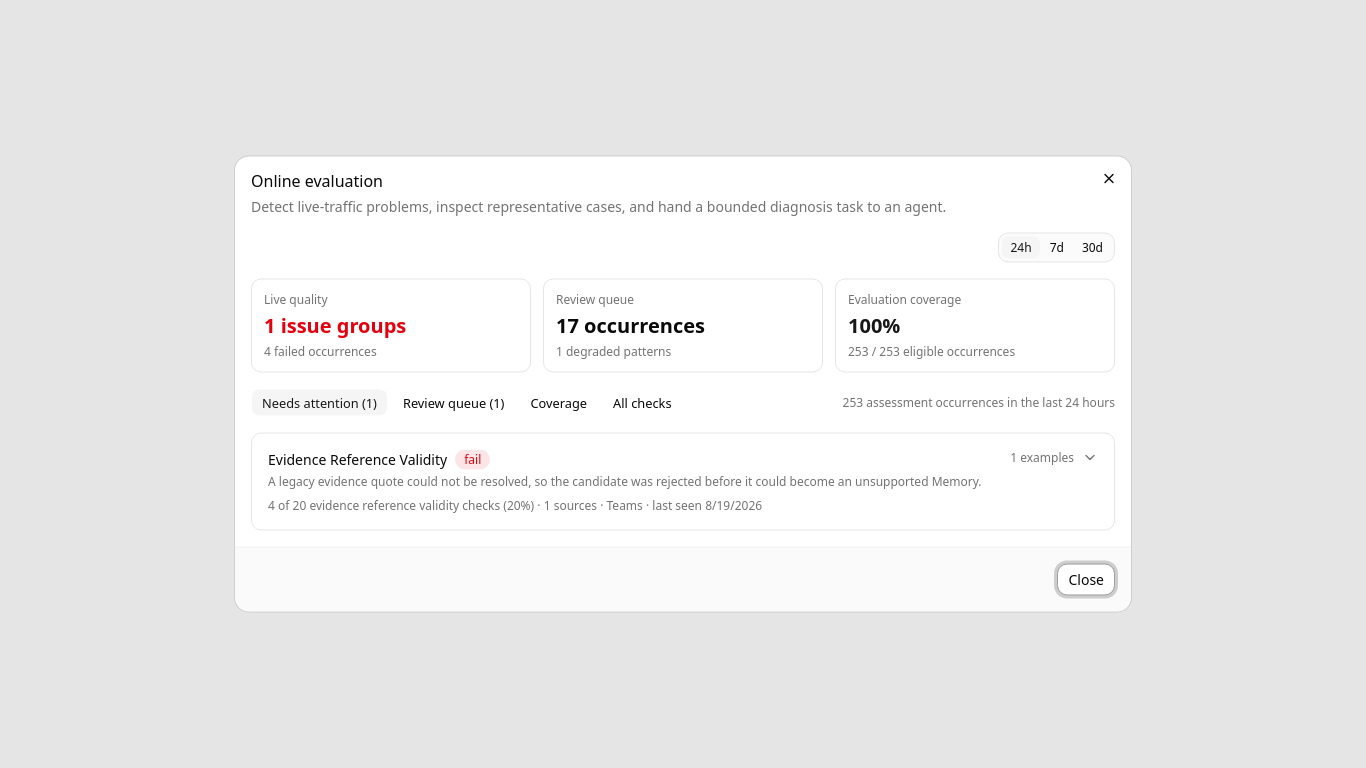
Test case: SourceOnlineEvaluationDialog › defaults to actionable groups and hands one bounded case to an agent
Check: the text "1 issue groups" is shown, box [264,312,406,338]
Click the button "Evidence Reference Validity".
click(683, 482)  # box [252,434,1114,530]
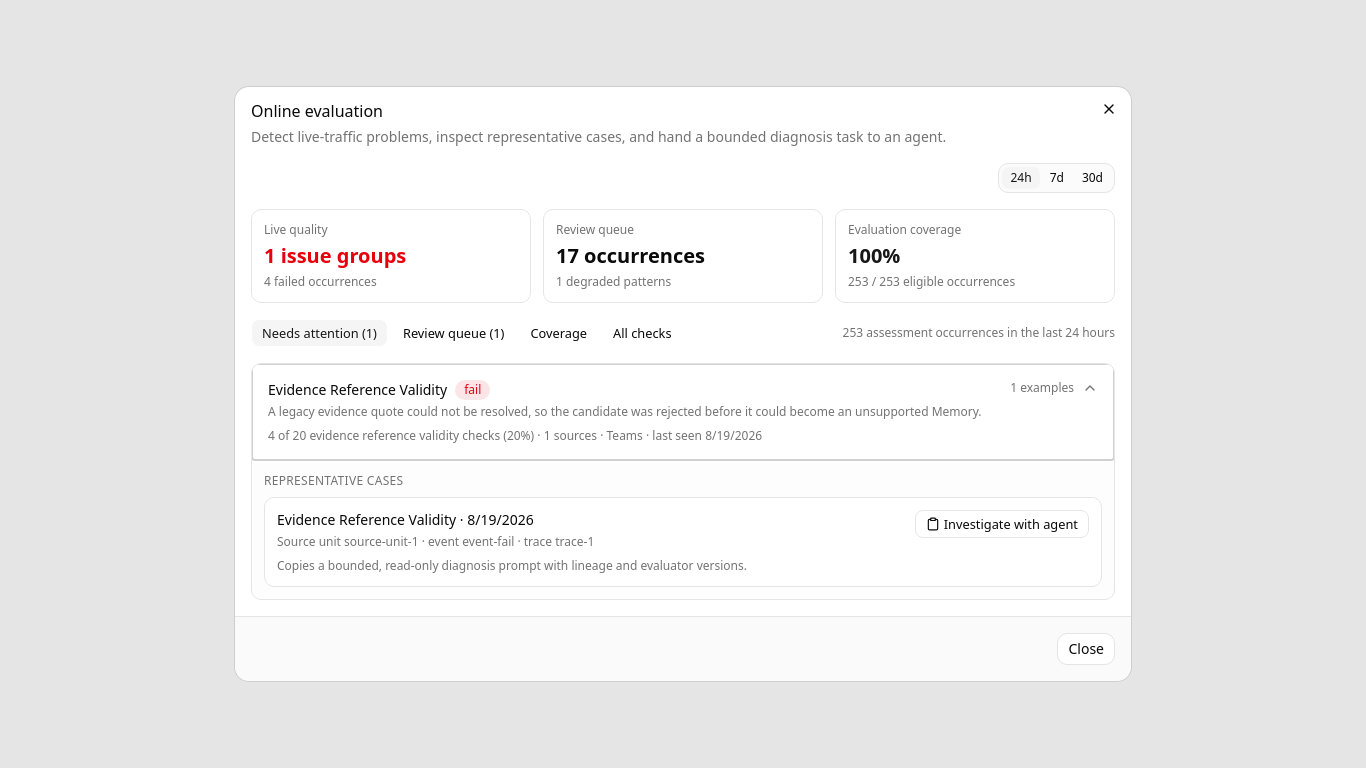
Click the button "Investigate with agent".
click(1002, 524)  # box [915,510,1089,538]
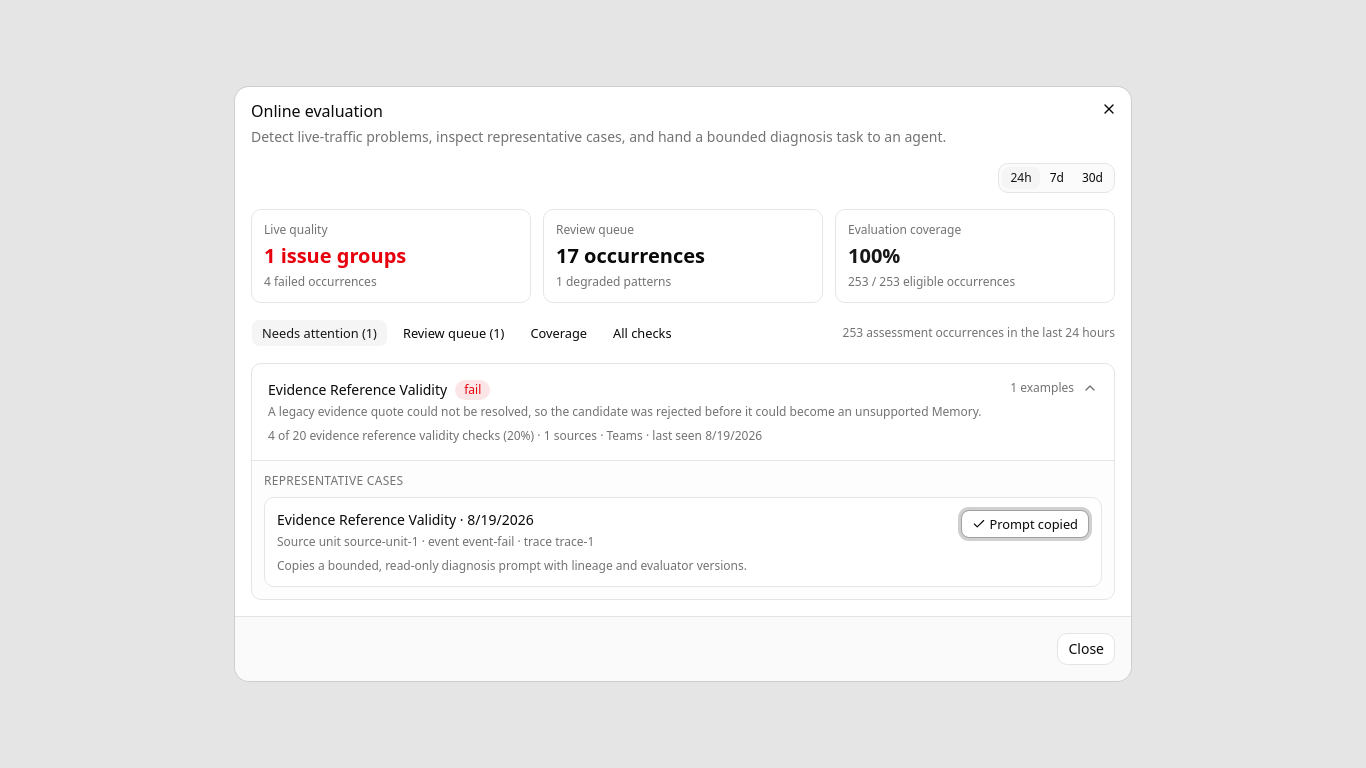
Check: the button "Prompt copied" is shown, box [960,510,1089,538]
